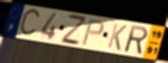4: (39, 11, 58, 41)
C: (18, 7, 42, 38)
K: (106, 22, 129, 52)
P: (81, 18, 106, 47)
R: (124, 24, 149, 56)
Z: (60, 12, 88, 47)
